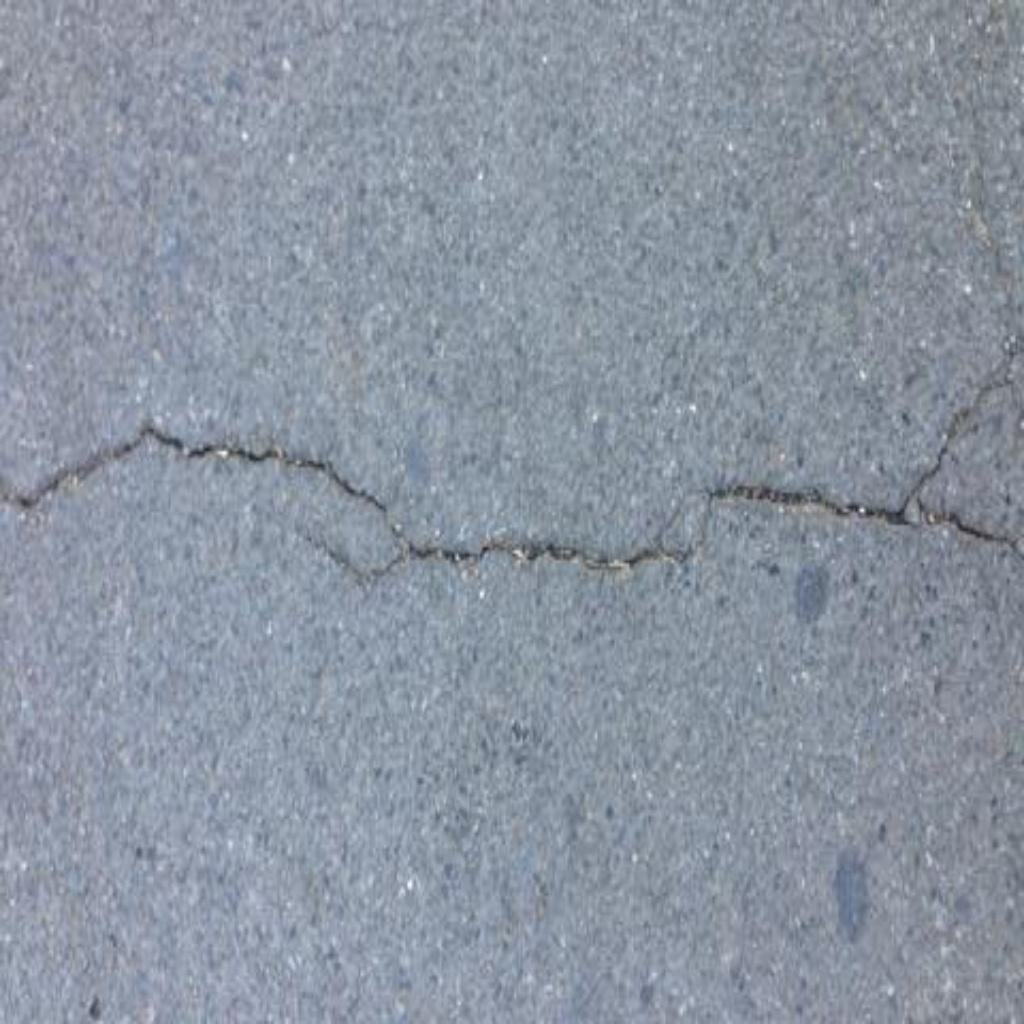Crack: (1, 421, 1024, 582), (901, 342, 1024, 512)
